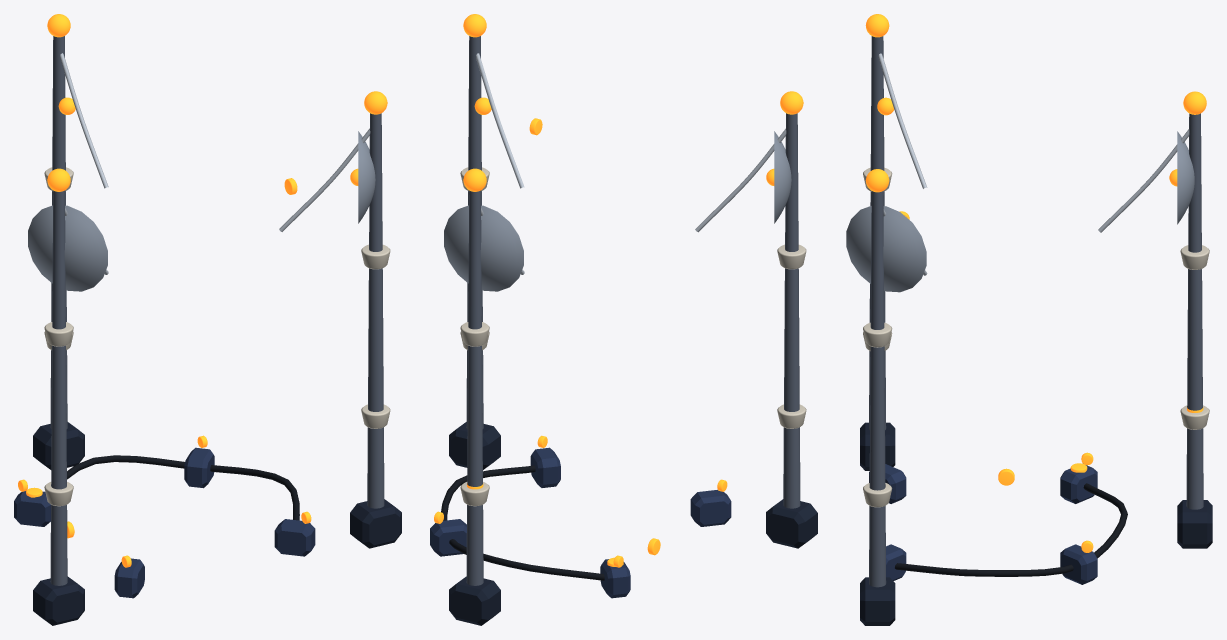
Rendered from tower_overclock_network_s8.glb.
The picture shows the model from 3 angles, left to right: view 1: azimuth 30°, elevation 25°; view 2: azimuth 150°, elevation 25°; view 3: azimuth 270°, elevation 25°; orthographic projection.
Parts seen in each view (by area): view 1: overclock_antenna2, overclock_antenna1, overclock_link_dish2, overclock_antenna0, overclock_antenna_foot1, overclock_antenna_foot2, overclock_relay_cable, overclock_antenna_foot0, overclock_relay2, overclock_link_dish1, overclock_relay0, overclock_relay1 (+5 smaller); view 2: overclock_antenna0, overclock_antenna2, overclock_link_dish0, overclock_antenna1, overclock_antenna_foot0, overclock_antenna_foot2, overclock_relay_cable, overclock_antenna_foot1, overclock_relay3, overclock_link_dish2, overclock_relay1, overclock_relay2 (+5 smaller); view 3: overclock_antenna1, overclock_antenna0, overclock_link_dish1, overclock_antenna2, overclock_relay_cable, overclock_antenna_foot0, overclock_antenna_foot1, overclock_link_dish0, overclock_relay1, overclock_relay0, overclock_antenna_foot2, overclock_guy2 (+7 smaller).
Boxes of the visible parts, left/top/right/bottom form: overclock_antenna2: left=50, top=190, right=67, bottom=585; overclock_antenna1: left=367, top=113, right=384, bottom=508; overclock_link_dish2: left=28, top=205, right=107, bottom=291; overclock_antenna0: left=50, top=36, right=67, bottom=428; overclock_antenna_foot1: left=350, top=499, right=401, bottom=548; overclock_antenna_foot2: left=33, top=576, right=84, bottom=625; overclock_relay_cable: left=67, top=455, right=299, bottom=520; overclock_antenna_foot0: left=33, top=422, right=84, bottom=469; overclock_relay2: left=274, top=519, right=315, bottom=556; overclock_link_dish1: left=358, top=131, right=375, bottom=223; overclock_relay0: left=14, top=491, right=50, bottom=526; overclock_relay1: left=184, top=447, right=214, bottom=488; overclock_antenna0: left=466, top=190, right=483, bottom=585; overclock_antenna2: left=783, top=113, right=800, bottom=508; overclock_link_dish0: left=444, top=205, right=523, bottom=291; overclock_antenna1: left=466, top=36, right=483, bottom=428; overclock_antenna_foot0: left=449, top=576, right=500, bottom=625; overclock_antenna_foot2: left=766, top=499, right=817, bottom=548; overclock_relay_cable: left=441, top=465, right=604, bottom=580; overclock_antenna_foot1: left=449, top=422, right=500, bottom=469; overclock_relay3: left=690, top=489, right=731, bottom=526; overclock_link_dish2: left=774, top=131, right=791, bottom=223; overclock_relay1: left=430, top=519, right=466, bottom=556; overclock_relay2: left=530, top=447, right=560, bottom=487; overclock_antenna1: left=869, top=191, right=886, bottom=587; overclock_antenna0: left=1186, top=113, right=1203, bottom=509; overclock_link_dish1: left=846, top=206, right=926, bottom=292; overclock_antenna2: left=869, top=36, right=886, bottom=429; overclock_relay_cable: left=895, top=483, right=1127, bottom=576; overclock_antenna_foot0: left=1177, top=500, right=1212, bottom=548; overclock_antenna_foot1: left=860, top=577, right=895, bottom=625; overclock_link_dish0: left=1177, top=131, right=1194, bottom=224; overclock_relay1: left=1060, top=544, right=1097, bottom=584; overclock_relay0: left=1060, top=465, right=1097, bottom=503; overclock_antenna_foot2: left=860, top=422, right=895, bottom=470; overclock_guy2: left=878, top=53, right=927, bottom=188.
Size of the model in its own units: 1.4 by 1.69 by 1.25.
